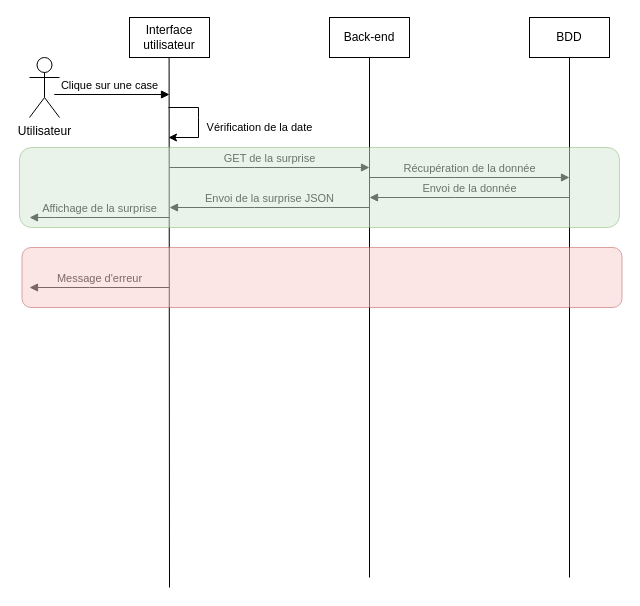
Image size: 640x606. Some labels were removed from this diagram. The shapes that lost their labels are listed below. From the top down, each one's centre as x and y in pixels, then its label:
(x=319, y=187): Succès
(x=321, y=277): Echec
